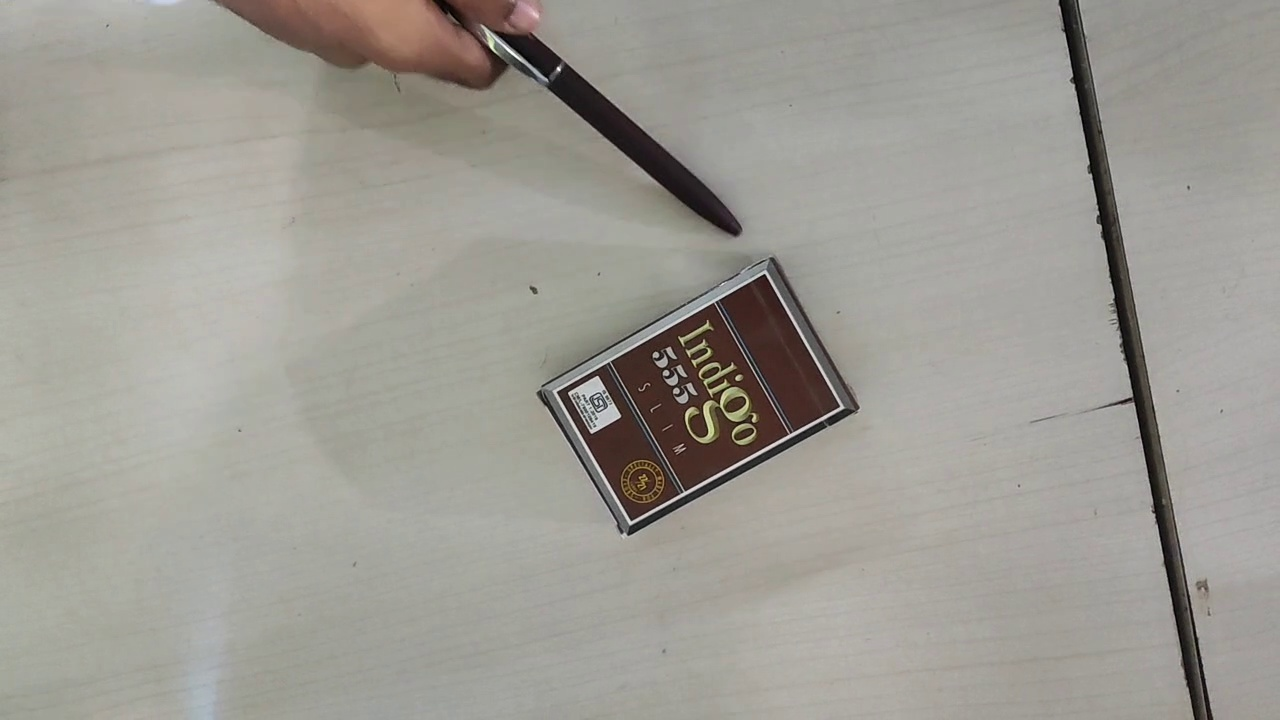BEX: (555, 270, 844, 521)
